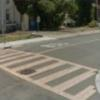crosswalks: (0, 47, 97, 100)
